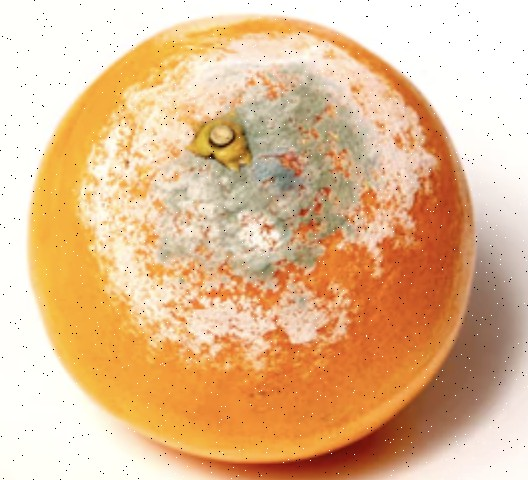rotten_orange: (27, 16, 477, 464)
